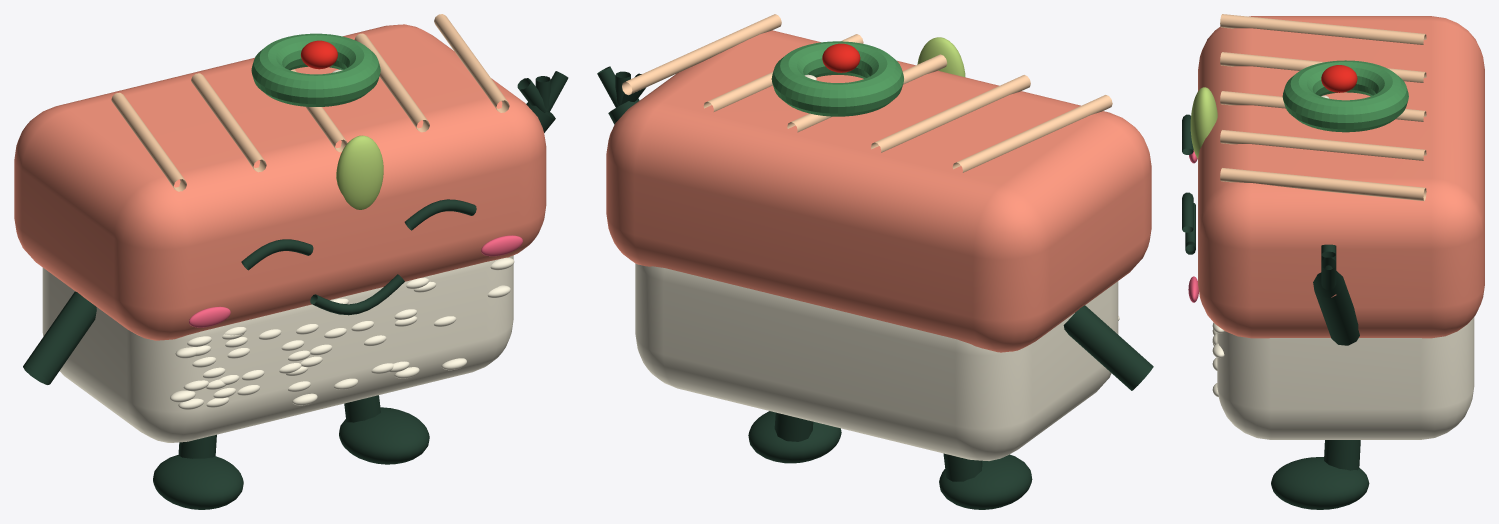
The model's file is suki-sleepy.glb.
3 views of the same model, side by side, from view 1: azimuth 30°, elevation 25°; view 2: azimuth 150°, elevation 25°; view 3: azimuth 270°, elevation 25° (orthographic). The views are drawn at different scales.
Parts seen in each view (by area): view 1: Salmon topping, Rice cushion, Jalapeno slice, Foot, Foot.001, Left arm, Avocado fringe, Salmon marbling 4, Salmon marbling 1, Salmon marbling 0, Salmon marbling 3, Mouth (+8 smaller); view 2: Salmon topping, Rice cushion, Jalapeno slice, Foot, Left arm, Foot.001, Salmon marbling 4, Salmon marbling 0, Salmon marbling 1, Salmon marbling 3, Salmon marbling 2, Avocado fringe (+3 smaller); view 3: Salmon topping, Rice cushion, Jalapeno slice, Foot.001, Salmon marbling 4, Salmon marbling 0, Salmon marbling 3, Right waving arm, Salmon marbling 1, Avocado fringe, Salmon marbling 2, Leg.001 (+4 smaller).
Boxes of the visible parts, x1,y1,x2,y2 form: Salmon topping: [14, 24, 546, 340]; Rice cushion: [42, 255, 513, 442]; Jalapeno slice: [251, 33, 380, 106]; Foot: [153, 455, 243, 509]; Foot.001: [339, 407, 429, 464]; Left arm: [23, 291, 96, 384]; Avocado fringe: [336, 135, 383, 209]; Salmon marbling 4: [434, 14, 509, 112]; Salmon marbling 1: [191, 73, 266, 172]; Salmon marbling 0: [111, 92, 186, 191]; Salmon marbling 3: [354, 33, 429, 132]; Mouth: [310, 274, 404, 315]; Salmon topping: [606, 30, 1151, 352]; Rice cushion: [635, 263, 1118, 460]; Jalapeno slice: [771, 41, 903, 116]; Foot: [939, 454, 1032, 509]; Left arm: [1063, 305, 1153, 390]; Foot.001: [748, 411, 841, 463]; Salmon marbling 4: [622, 14, 781, 95]; Salmon marbling 0: [952, 95, 1112, 172]; Salmon marbling 1: [871, 75, 1030, 152]; Salmon marbling 3: [703, 34, 863, 111]; Salmon marbling 2: [787, 54, 947, 132]; Avocado fringe: [917, 37, 965, 77]; Salmon topping: [1198, 16, 1484, 338]; Rice cushion: [1217, 317, 1474, 439]; Jalapeno slice: [1282, 60, 1408, 132]; Foot.001: [1271, 457, 1369, 509]; Salmon marbling 4: [1220, 168, 1426, 201]; Salmon marbling 0: [1220, 14, 1426, 44]; Salmon marbling 3: [1220, 130, 1426, 160]; Right waving arm: [1313, 271, 1359, 345]; Salmon marbling 1: [1220, 52, 1426, 82]; Avocado fringe: [1190, 87, 1217, 158]; Salmon marbling 2: [1220, 91, 1426, 121]; Leg.001: [1324, 440, 1360, 470].
Size of the model in its own units: 2.85 by 2.11 by 1.42.
